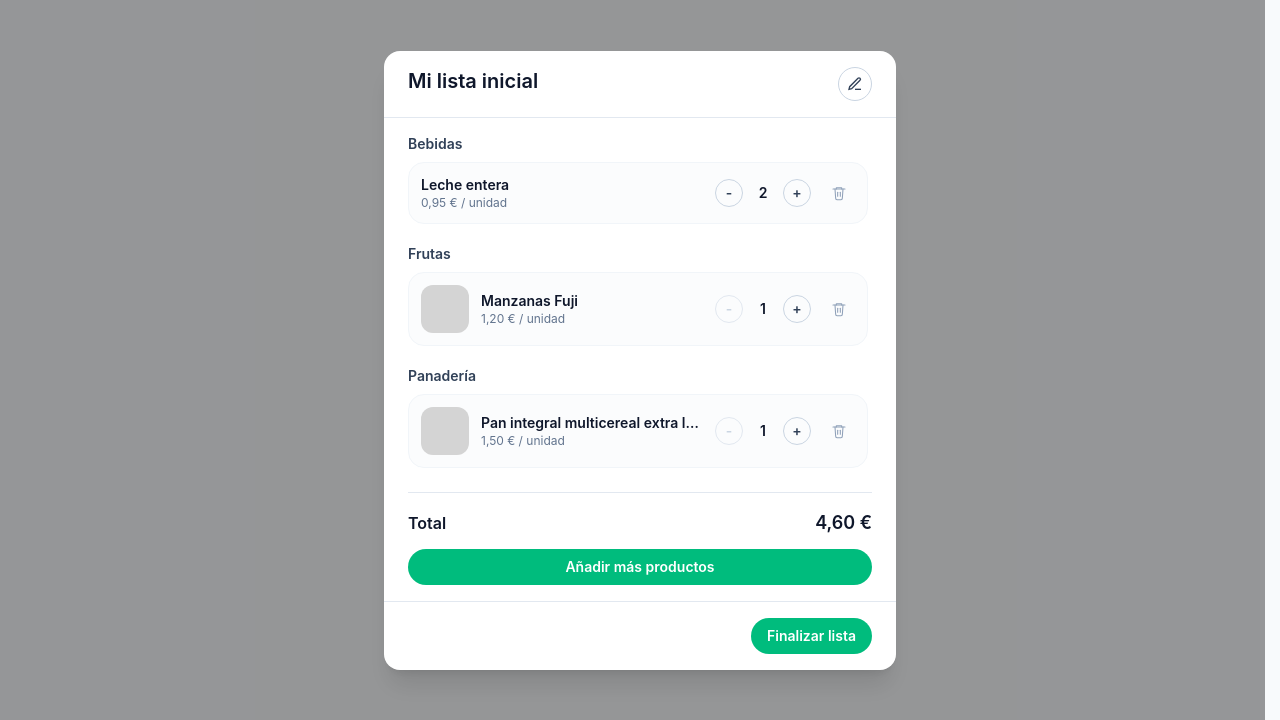
ShoppingList › permite editar el título en listas draft
Click the button named "Editar título". click: click(855, 84)
box: top-left (838, 66), bottom-right (872, 100)
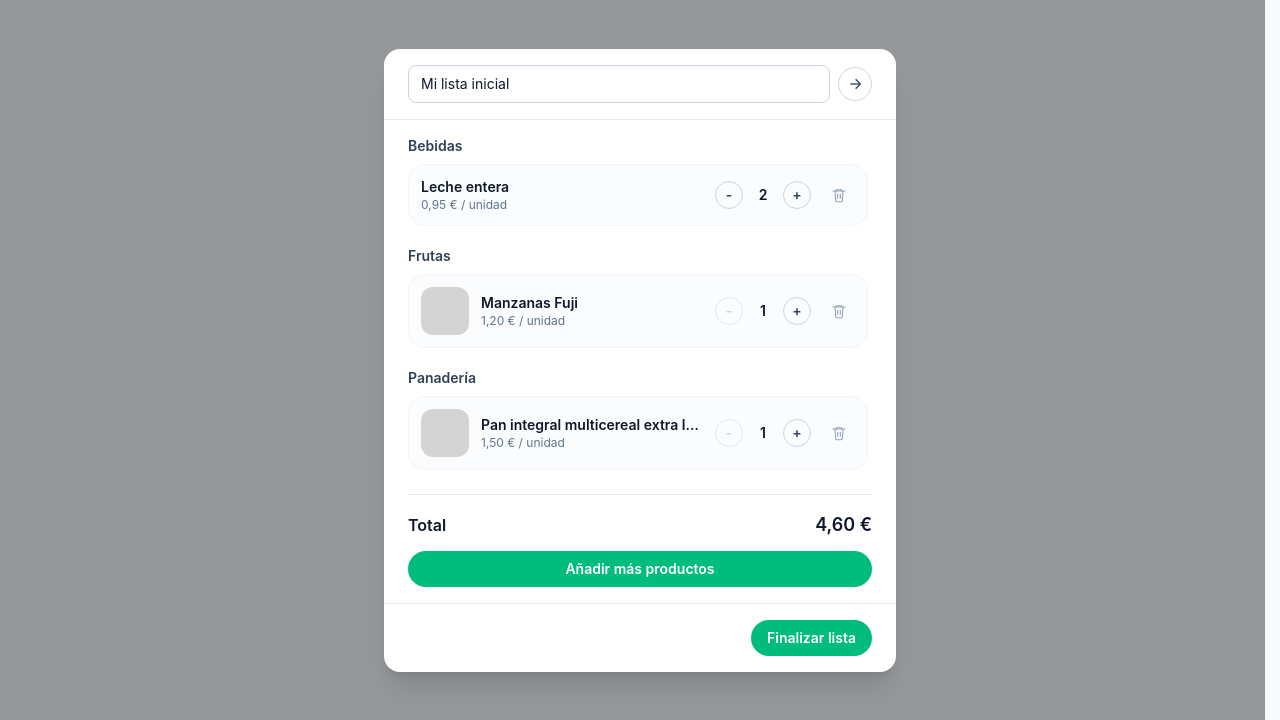
Replace the text in the field named "Título de la lista" with "Lista renombrada". click: (619, 84)
box: top-left (408, 64), bottom-right (830, 102)
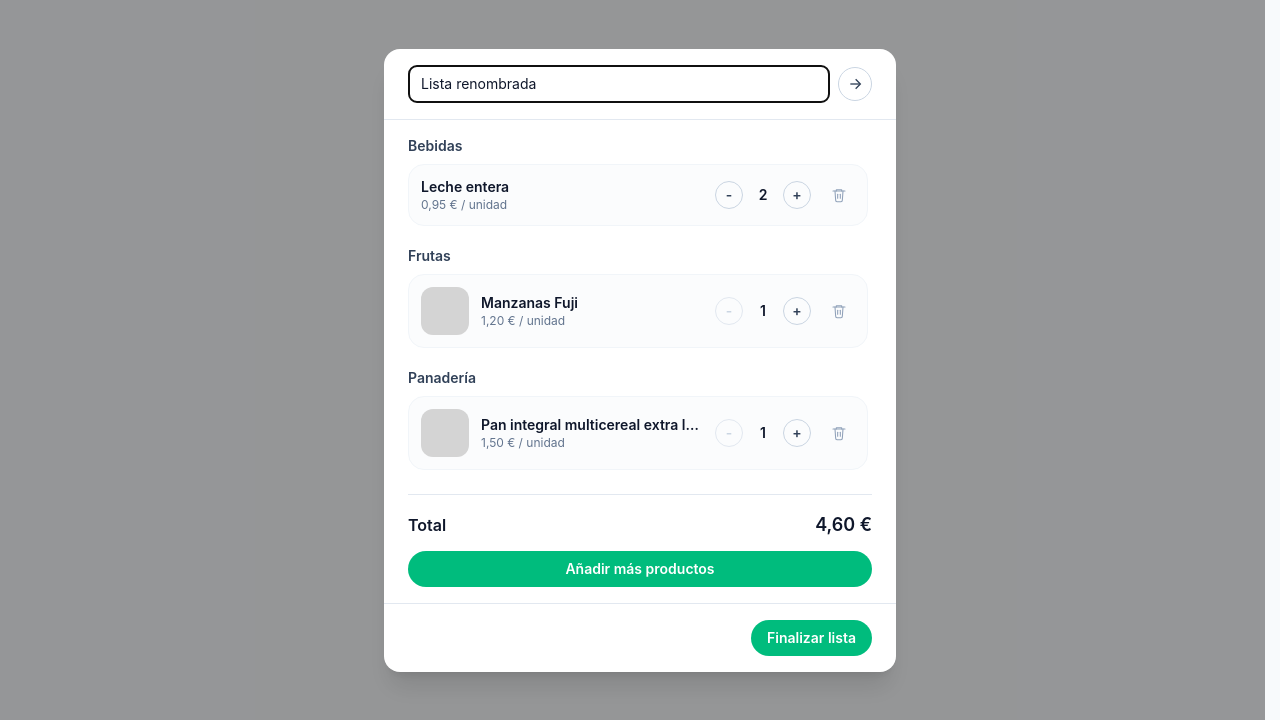
Click the button named "Guardar título". click: click(855, 84)
box: top-left (838, 66), bottom-right (872, 100)
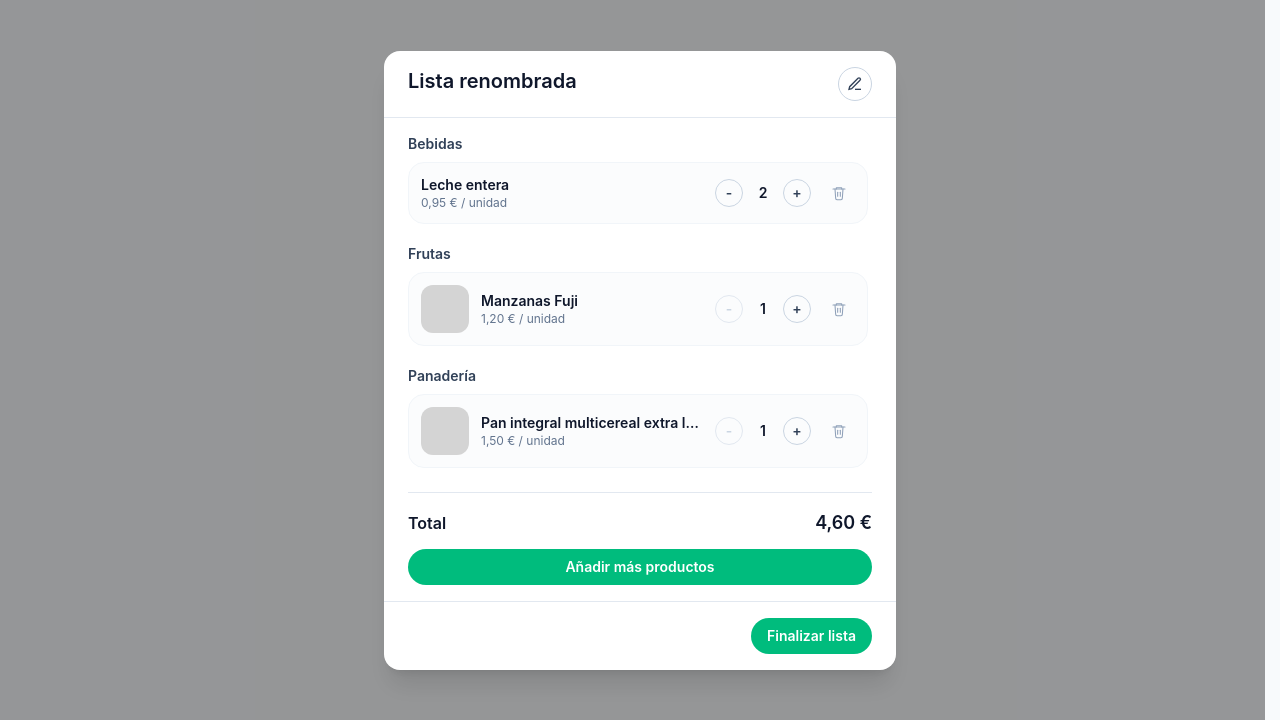
expect the heading "Lista renombrada" is shown: met, box top-left (408, 66), bottom-right (577, 94)
